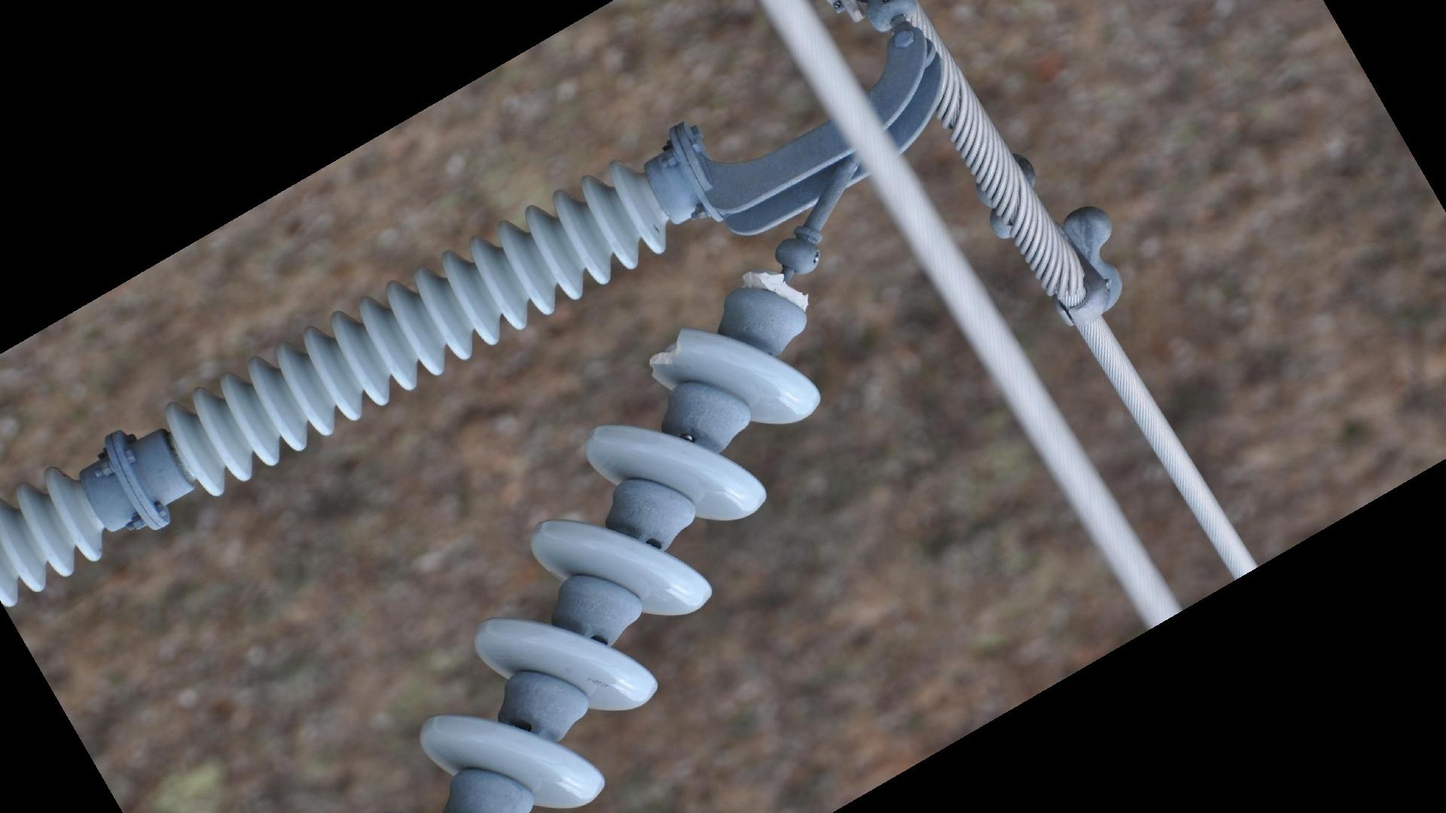insulator: (411, 321, 830, 813), (158, 152, 679, 504), (1, 461, 112, 615)
insulator_breakage: (638, 324, 692, 392)
